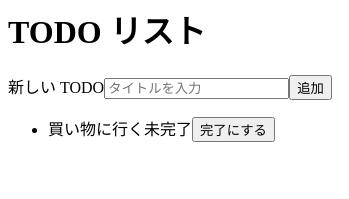
it: 受入基準4: エラー表示 › 完了更新失敗時にエラーメッセージが表示される
Click the button "完了にする" at x=233, y=129, box [192,117,275,142]
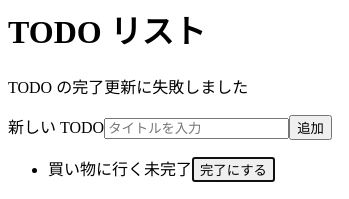
Expected: the message shows "失敗", [8,79,248,96]
